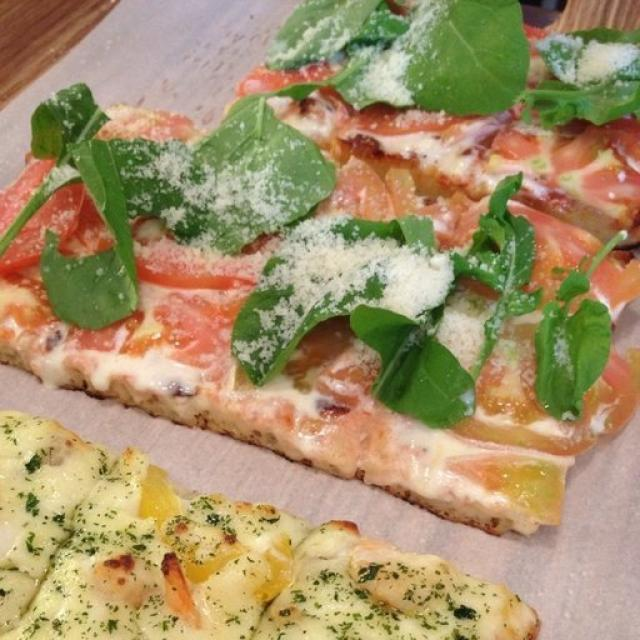Basil: (257, 216, 433, 361), (149, 113, 313, 246), (35, 96, 130, 318), (388, 0, 524, 118), (363, 316, 467, 408), (557, 26, 634, 122), (480, 186, 522, 341), (548, 298, 594, 418), (308, 4, 391, 46)
Pizza: (0, 85, 640, 536), (0, 410, 539, 640), (241, 0, 640, 212)
